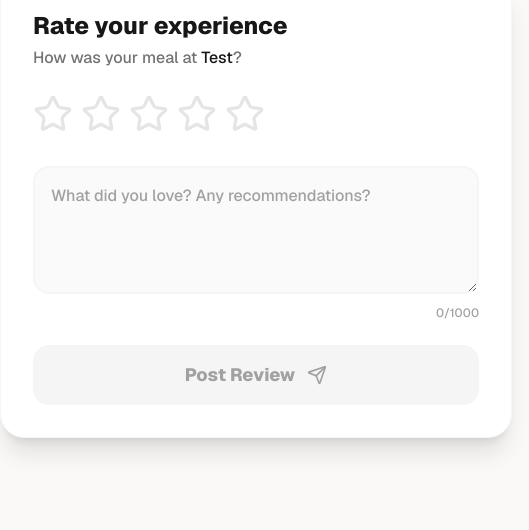
Test: ReviewForm › shows rate-limit error when review limit is exceeded
The width and height of the screenshot is (529, 530).
Click the 1st button at {"x": 53, "y": 114}, box left=33, top=94, right=73, bottom=134
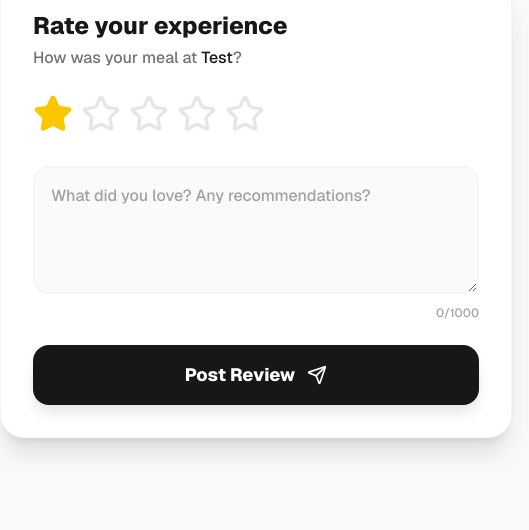
Click the button "Post Review" at {"x": 256, "y": 375}, box left=33, top=345, right=479, bottom=405
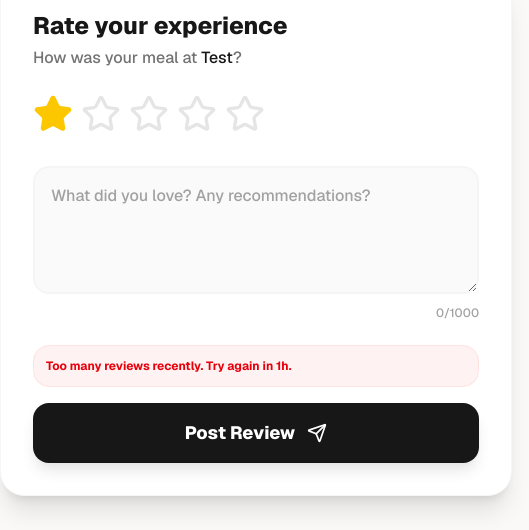
Now the text "Too many reviews recently. Try again in 1h." is shown, box left=33, top=345, right=479, bottom=387
